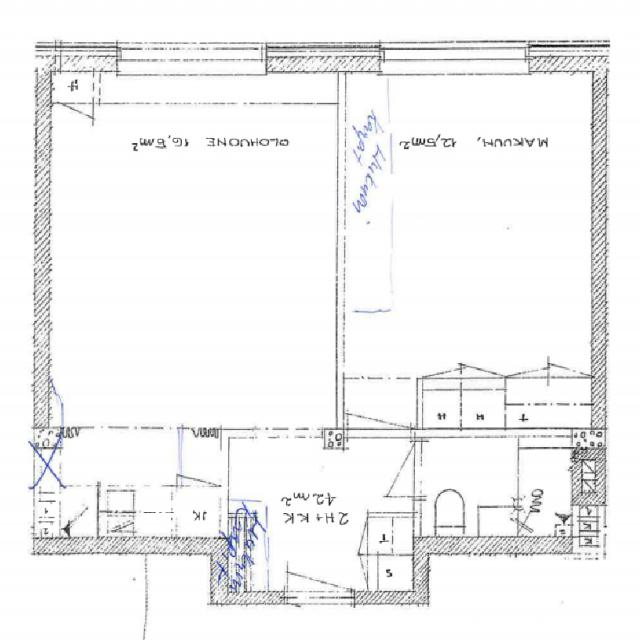door: (288, 519, 354, 604), (347, 361, 409, 437), (362, 441, 421, 496)
